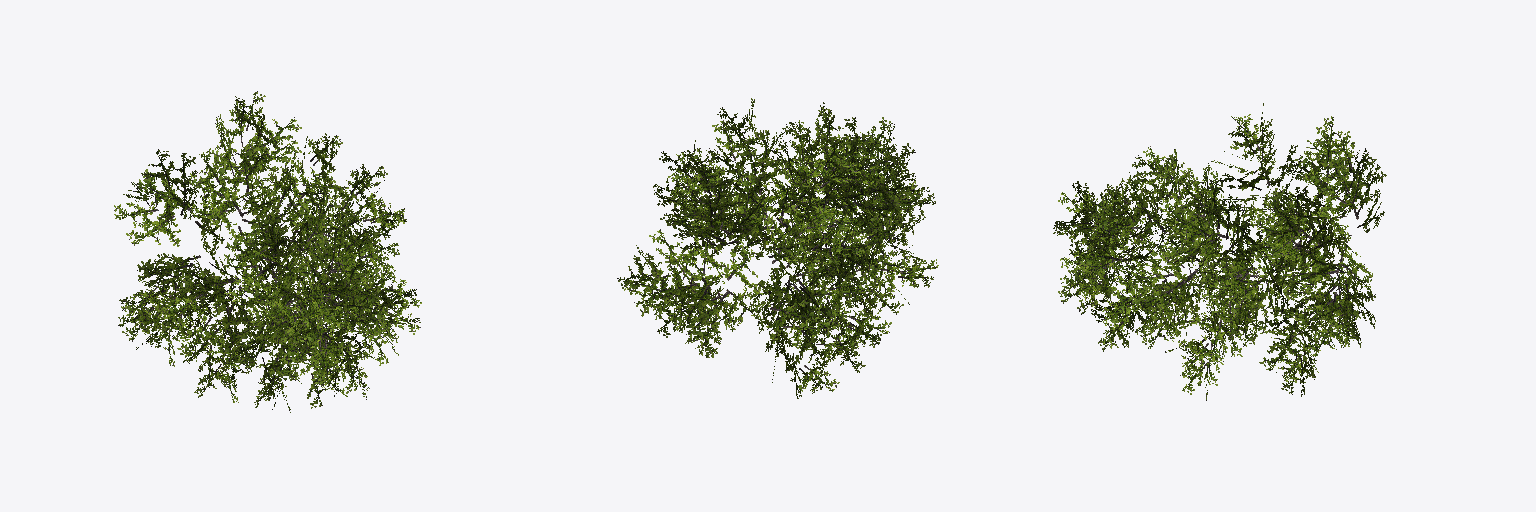
The picture shows the model from 3 angles: view 1: azimuth 30°, elevation 25°; view 2: azimuth 150°, elevation 25°; view 3: azimuth 270°, elevation 25°; orthographic projection.
Visible parts, largest first — view 1: LowPolyTree_Default_OBJ_0; view 2: LowPolyTree_Default_OBJ_0; view 3: LowPolyTree_Default_OBJ_0.
Part boxes in pixels (left/top/right/bottom): LowPolyTree_Default_OBJ_0: left=114, top=91, right=421, bottom=412; LowPolyTree_Default_OBJ_0: left=617, top=98, right=938, bottom=398; LowPolyTree_Default_OBJ_0: left=1053, top=103, right=1386, bottom=400.
Bounding box in the file's own units: 980 × 940 × 1458.
2 materials, 2 textured.